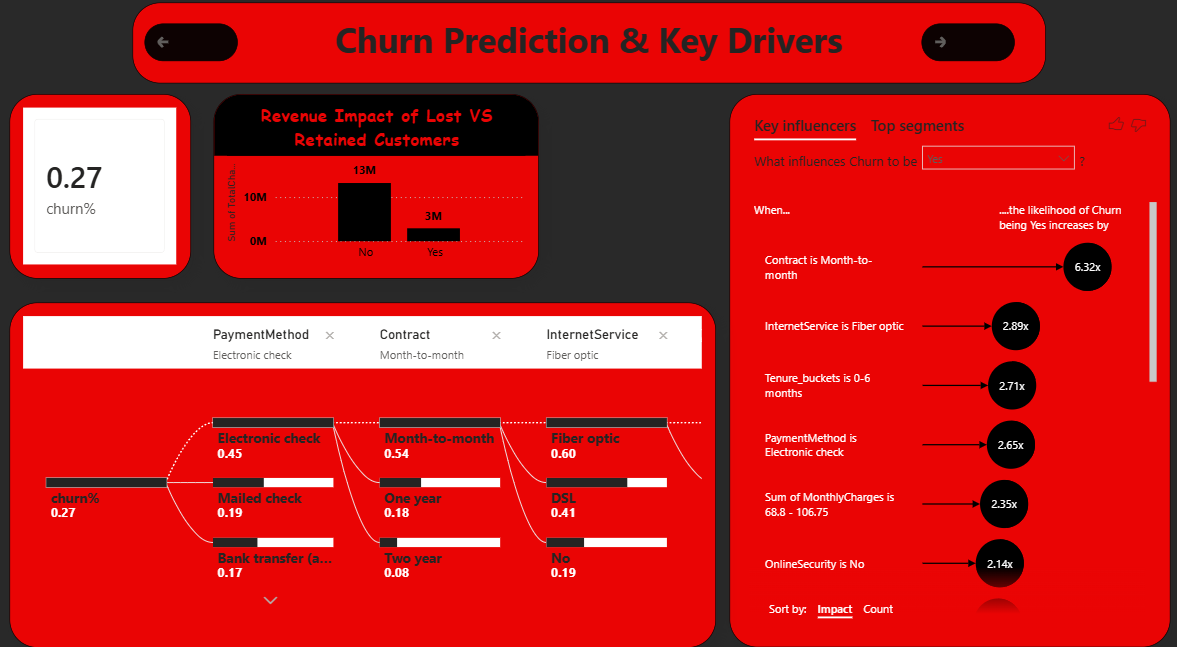

Layout of this report page (visuals, bound fields, positions):
{"tool":"powerbi","page":{"name":"Page 5","canvas":[1280,720],"ordinal":3},"visuals":[{"type":"cardVisual","fields":{"Data":["customer.churn%"]},"box":[14.6,123.1,195.9,199.2],"z":0},{"type":"keyDriversVisual","fields":{"ExplainBy":["customer.Contract","customer.OnlineSecurity","Sum(customer.MonthlyCharges)","customer.Partner","customer.gender","customer.PhoneService","customer.StreamingMovies","customer.TechSupport","customer.InternetService","customer.SeniorCitizen","customer.PaymentMethod","customer.OnlineBackup"],"Target":["customer.Churn"]},"box":[791.8,123.1,476.1,597.5],"z":1000},{"type":"columnChart","title":"Revenue Impact of Lost VS Retained Customers","fields":{"Category":["customer.Churn"],"Y":["Sum(customer.TotalCharges)"]},"box":[234.8,123.1,351.4,199.2],"z":2000},{"type":"decompositionTreeVisual","fields":{"ExplainBy":["customer.PaymentMethod","customer.Contract","customer.InternetService","customer.OnlineBackup","customer.SeniorCitizen","customer.StreamingTV","customer.TechSupport","customer.DeviceProtection","customer.PhoneService","customer.PaperlessBilling","customer.OnlineSecurity"],"Analyze":["customer.churn%"]},"box":[14.6,348.1,762.7,372.4],"z":3000},{"type":"textbox","box":[147.3,24.3,986.1,87.4],"z":4000},{"type":"actionButton","box":[160.3,47,100.4,40.5],"z":4001},{"type":"actionButton","box":[999.1,47,100.4,40.5],"z":4002}]}

Visuals, with their boxes in screenshot pixels (x1, y1, x2, y2), scaled from the page's 1280x720 canvas onto the 1177x647 screenshot:
cardVisual - customer.churn%: x1=13, y1=111, x2=194, y2=290
keyDriversVisual - customer.Contract x customer.OnlineSecurity: x1=728, y1=111, x2=1166, y2=646
"Revenue Impact of Lost VS Retained Customers" columnChart: x1=216, y1=111, x2=539, y2=290
decompositionTreeVisual - customer.PaymentMethod x customer.Contract: x1=13, y1=313, x2=715, y2=646
textbox: x1=135, y1=22, x2=1042, y2=100
actionButton: x1=147, y1=42, x2=240, y2=79
actionButton: x1=919, y1=42, x2=1011, y2=79
